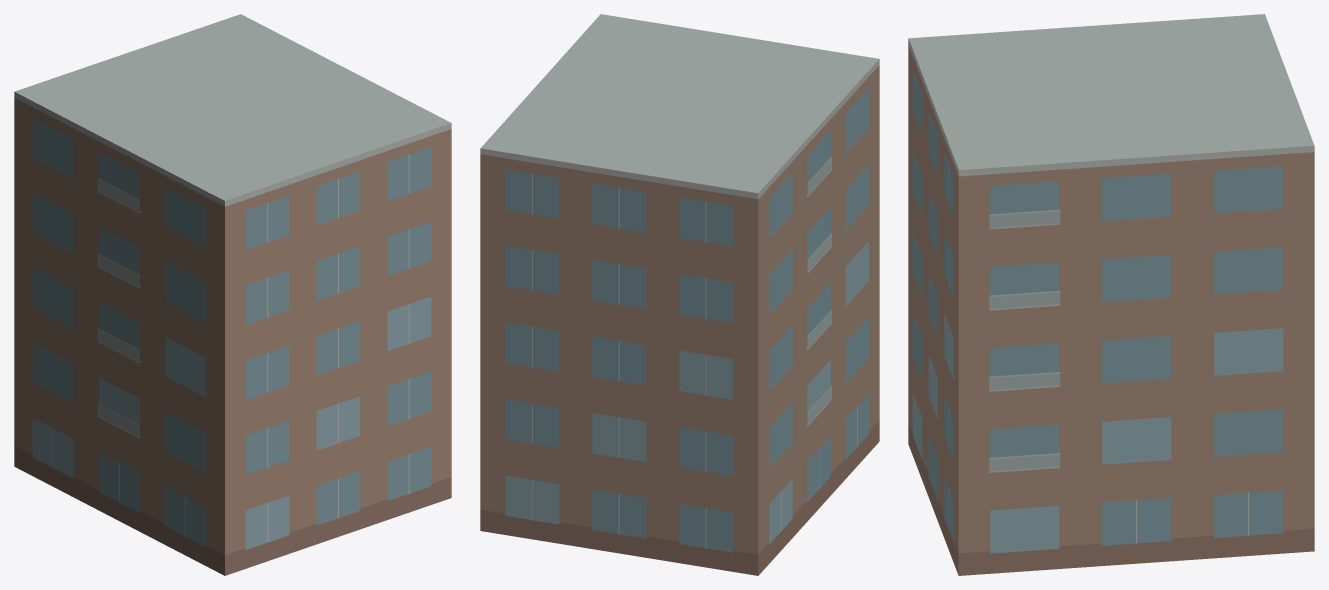
Rendered from survey-upis-32970943.glb.
3 renders of one model, left to right at view 1: azimuth 30°, elevation 25°; view 2: azimuth 150°, elevation 25°; view 3: azimuth 270°, elevation 25°, orthographic. The views are drawn at different scales.
Parts seen in each view (by area): view 1: survey-upis-32970943.tmp; view 2: survey-upis-32970943.tmp; view 3: survey-upis-32970943.tmp.
Part boxes in pixels (bbox=[...]): survey-upis-32970943.tmp: bbox=[14, 14, 451, 575]; survey-upis-32970943.tmp: bbox=[480, 14, 879, 575]; survey-upis-32970943.tmp: bbox=[908, 14, 1314, 575].
Bounding box in the file's own units: 12.98 × 15.7 × 14.26.
